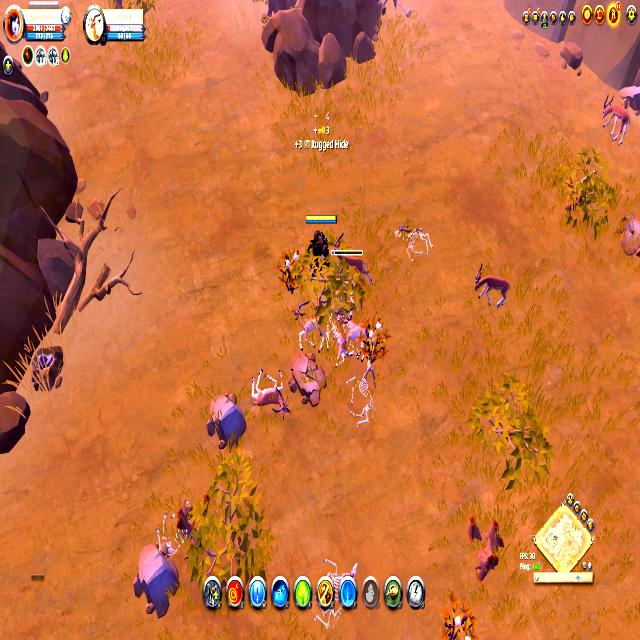hide: (357, 314, 388, 364), (275, 244, 305, 295), (441, 598, 473, 639)
mob: (249, 363, 290, 420), (326, 305, 363, 367), (290, 303, 329, 355)
ore: (596, 91, 633, 148), (332, 241, 374, 291), (472, 261, 512, 313)
red: (305, 211, 336, 268)
